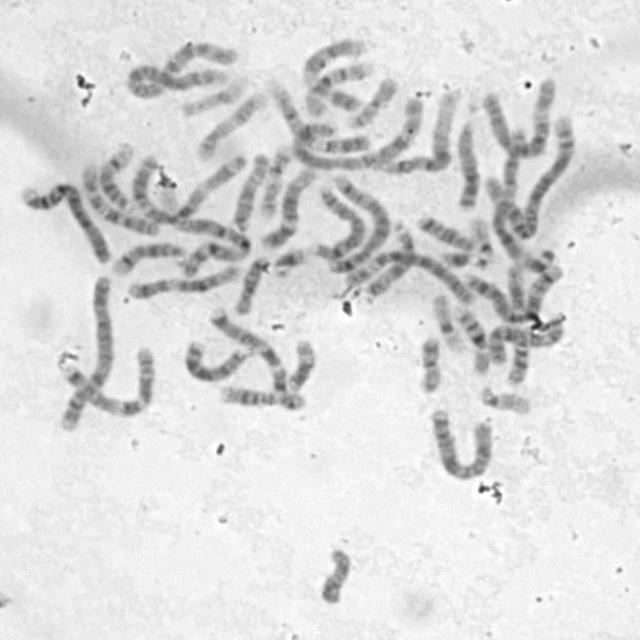A1: (154, 179, 252, 277), (372, 85, 457, 176)
A2: (482, 110, 577, 243), (121, 36, 239, 100)
A3: (494, 124, 558, 283), (125, 150, 247, 229)
B4: (53, 268, 117, 435), (14, 177, 114, 266)
B5: (319, 170, 392, 275), (458, 262, 565, 322)
C10: (76, 158, 164, 238), (483, 310, 568, 368)
C11: (218, 338, 328, 404), (506, 266, 539, 386)
C12: (255, 162, 318, 252), (123, 259, 244, 301)
C6: (333, 244, 481, 306), (475, 74, 558, 160)
C7: (203, 302, 297, 398), (56, 342, 157, 423)
C8: (310, 180, 374, 264), (292, 122, 381, 174)
C9: (257, 73, 374, 158), (298, 34, 366, 116)
D13: (181, 334, 255, 384), (451, 114, 483, 212)
D14: (106, 237, 189, 278), (95, 137, 136, 210)
D15: (358, 219, 416, 305), (229, 149, 271, 233)
E16: (298, 56, 375, 116), (448, 300, 493, 376)
E17: (190, 86, 267, 162), (255, 139, 294, 220)
E18: (412, 209, 476, 252), (230, 252, 271, 316)
F19: (177, 76, 245, 119), (429, 288, 466, 355)
F20: (342, 72, 402, 131), (413, 330, 445, 396)
G21: (269, 243, 308, 279), (436, 245, 486, 271)
G22: (474, 382, 534, 417), (464, 211, 498, 270)
X: (426, 402, 496, 483)
Y: (315, 542, 354, 606)
